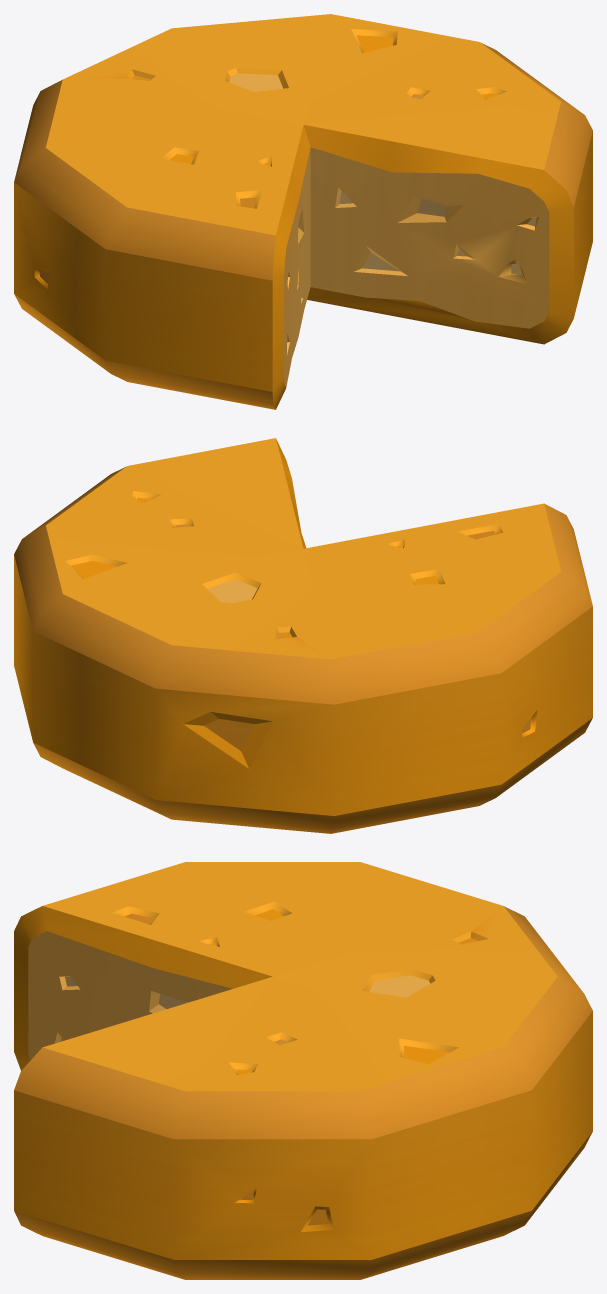
File: Cheese_2.glb
The picture shows the model from 3 angles, top to bottom: view 1: azimuth 30°, elevation 25°; view 2: azimuth 150°, elevation 25°; view 3: azimuth 270°, elevation 25°; orthographic projection. The views are drawn at different scales.
Visible parts, largest first — view 1: Cheese_2; view 2: Cheese_2; view 3: Cheese_2.
Boxes of the visible parts, left/top/right/bottom form: Cheese_2: left=14, top=14, right=592, bottom=409; Cheese_2: left=14, top=438, right=592, bottom=833; Cheese_2: left=14, top=862, right=592, bottom=1279.
Size of the model in its own units: 0.5732 by 0.196 by 0.5452.
1 material, 1 textured.
